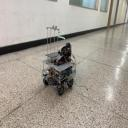cart: (42, 56, 76, 96)
